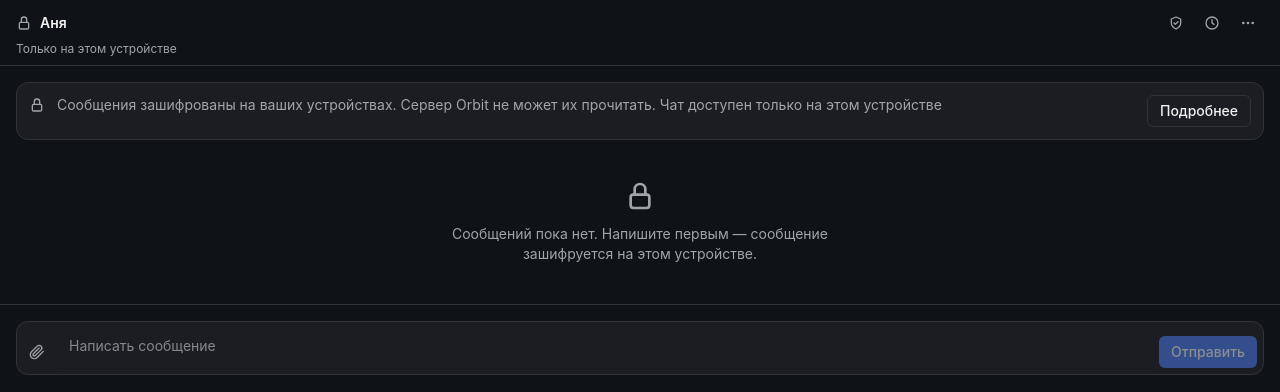
Test: sends typed text through the session
Expected: the text "Сообщения зашифрованы на ваших устройствах. Сервер Orbit не может их прочитать. Чат доступен только на этом устройстве" is shown, [57,96,942,113]
Type "Привет" into the text box labelled "сообщение". click: point(606, 348)
box: [57,328,1155,368]
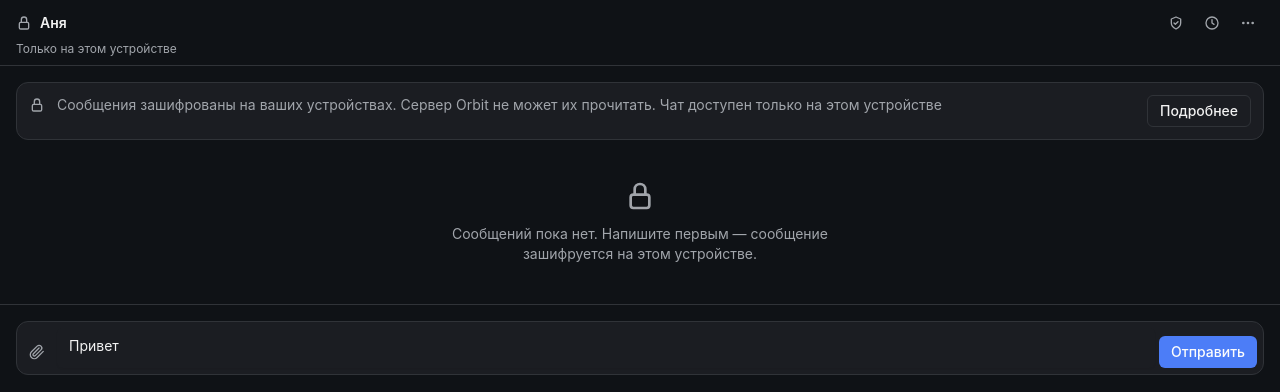
Click the button "Отправить". click: point(1208, 352)
box: [1159,336,1257,368]
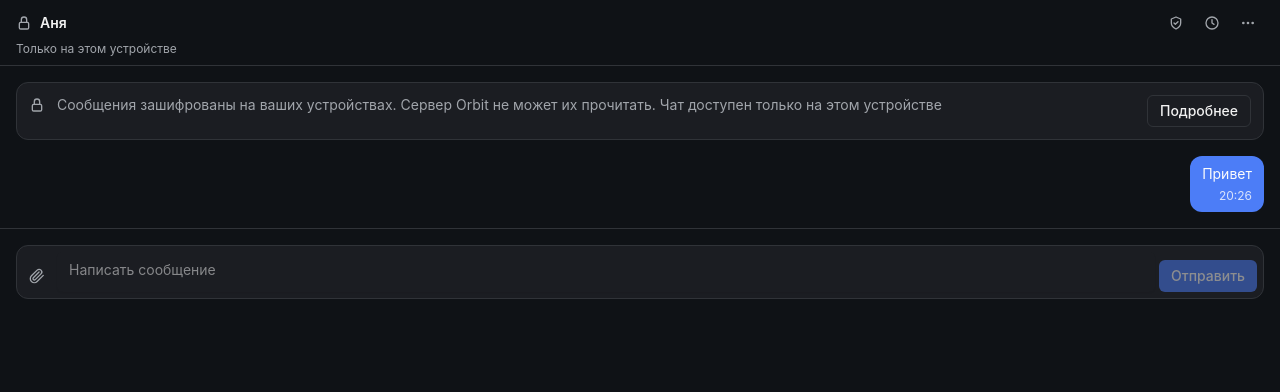
Expected: the text "Привет" is shown, [1202,164,1252,184]
